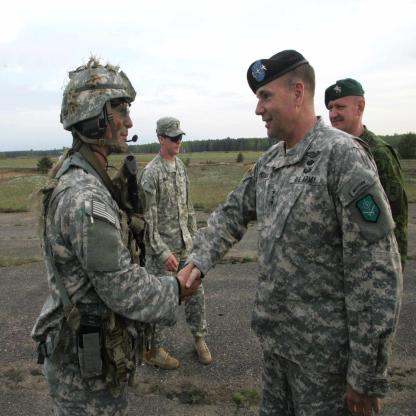Helmet: (59, 66, 136, 162)
